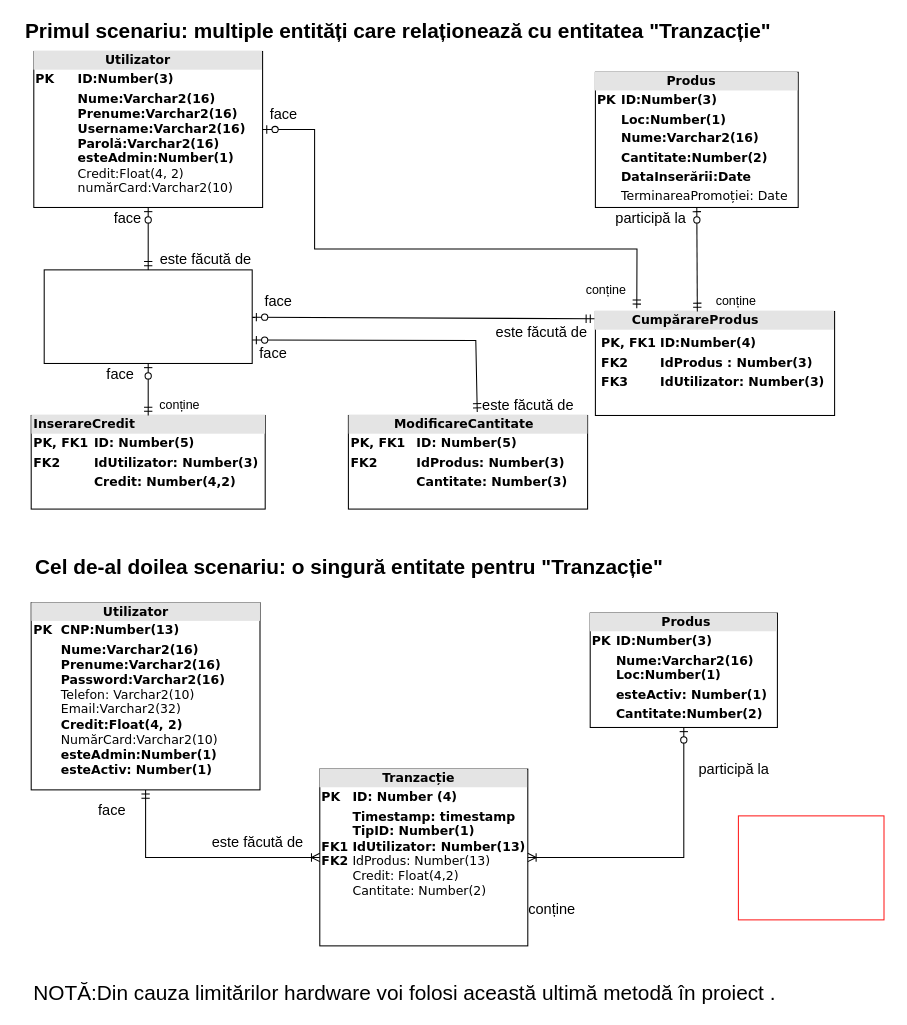
Image size: 907x1025. Some labels were removed from this diagram. Here are the shapes that lost their labels. From the top down, the centre of each, then its label:
At point (147, 316): "Tranzacție PK ID: Number(5) Timestamp: timestamp".
At point (810, 867): "TipID: 1-Inserare credit 2-Modificare cantitate 3-Cumpărare produs".
